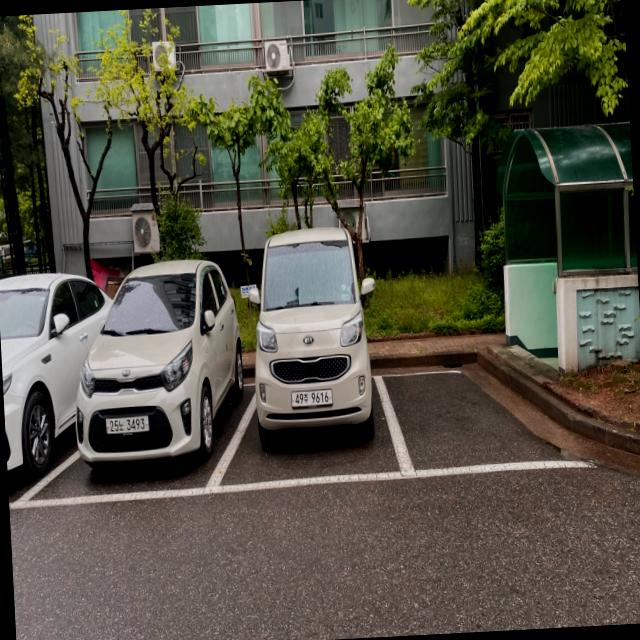car: (70, 258, 232, 469), (242, 225, 374, 438), (0, 268, 78, 488)
free: (376, 361, 598, 480)
